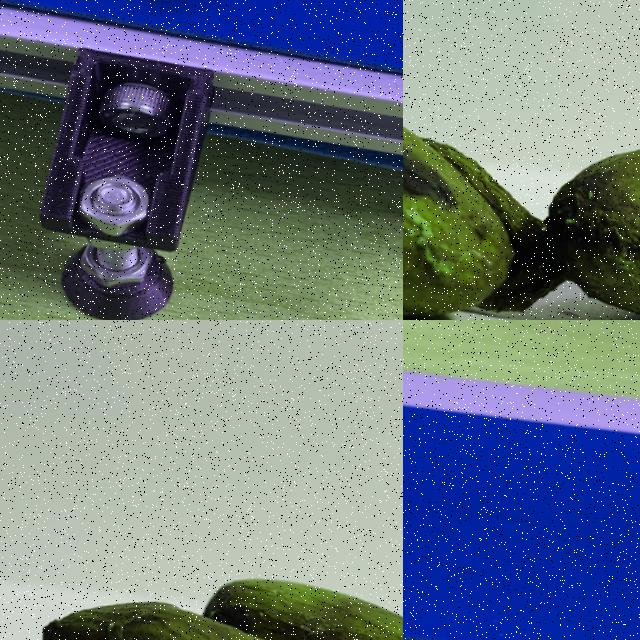Agglomerated_cocoabeans: (403, 0, 639, 319), (0, 493, 402, 639), (0, 0, 297, 50)
